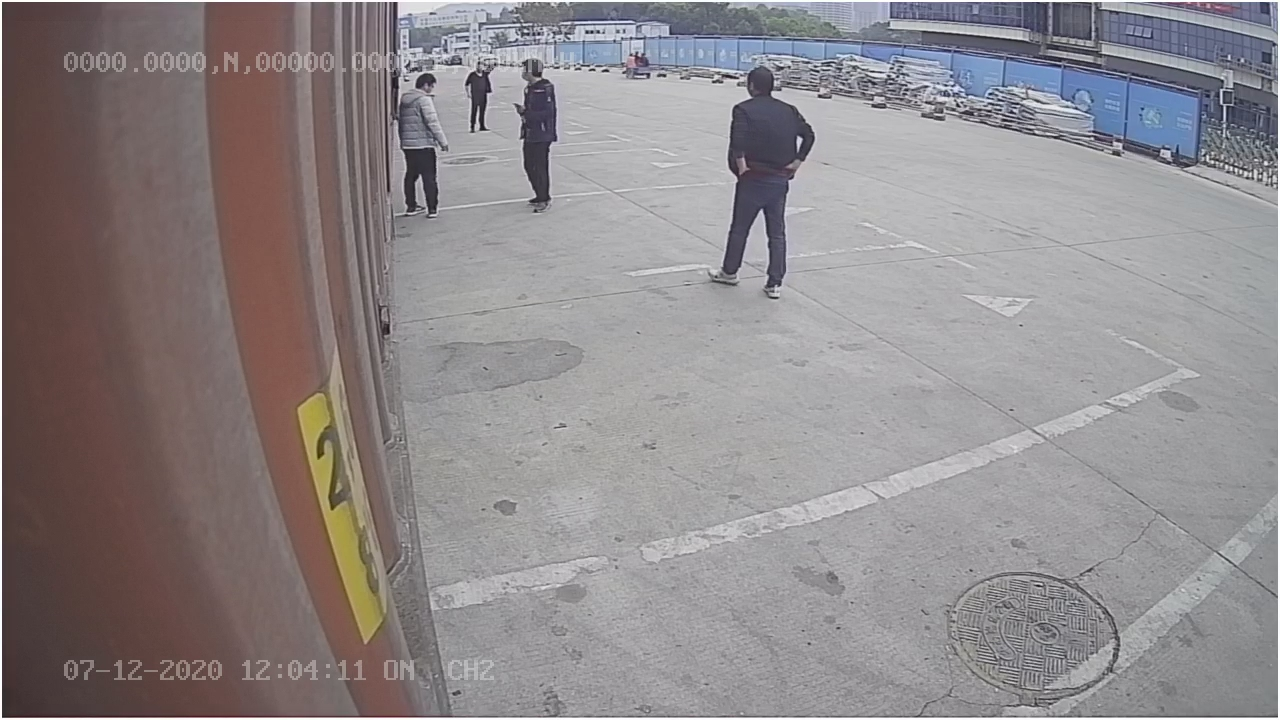person: (704, 67, 817, 300)
